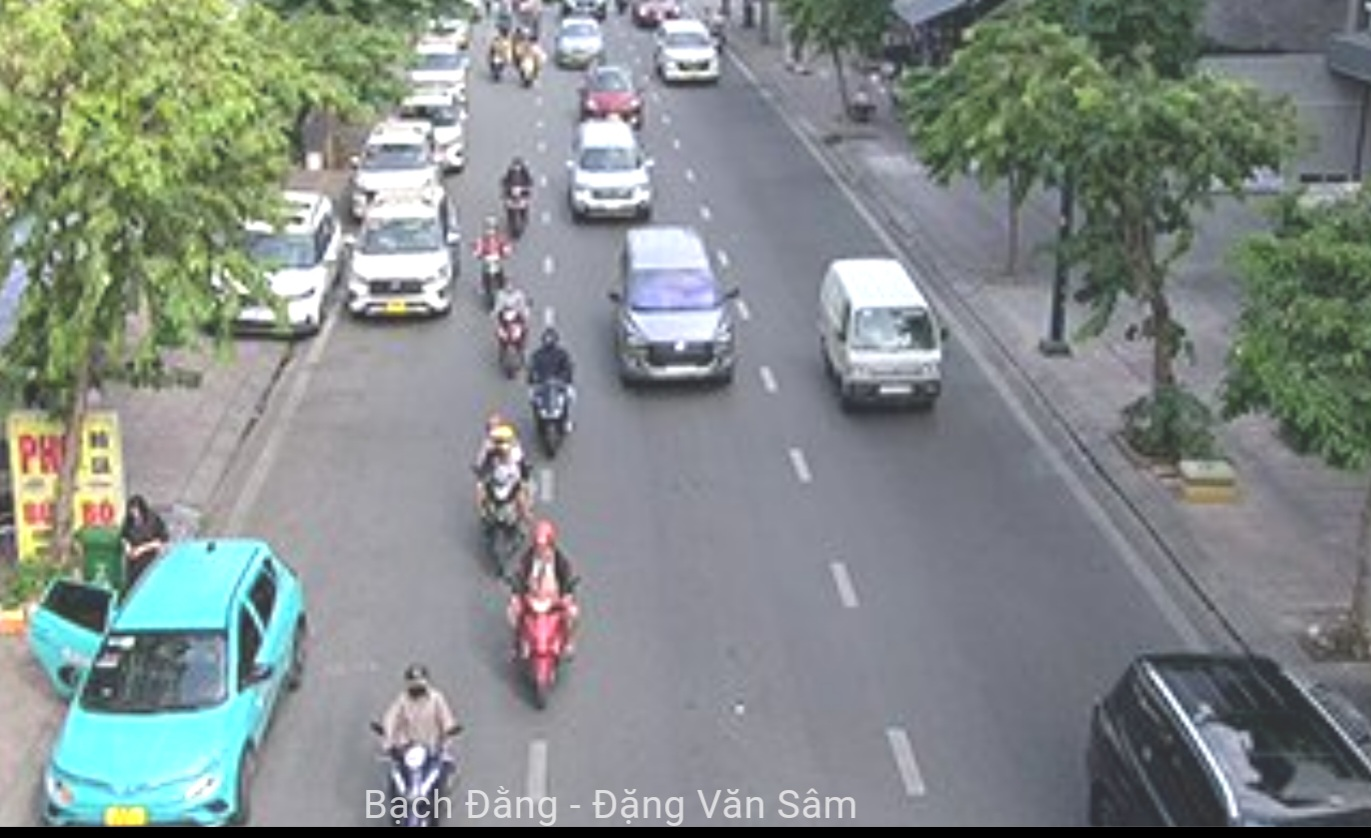car: (78, 542, 304, 838), (1075, 633, 1371, 838), (820, 262, 966, 426), (621, 227, 736, 387), (357, 191, 460, 315), (560, 124, 659, 226), (355, 118, 446, 207), (652, 22, 727, 88), (580, 65, 645, 126), (553, 20, 605, 64)
